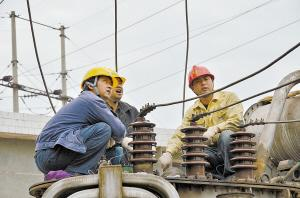boots: (28, 178, 59, 198)
gloves: (152, 152, 172, 176), (202, 125, 220, 139), (121, 136, 133, 152)
hard-hat: (80, 65, 113, 89), (187, 65, 214, 88), (109, 69, 125, 88)
person: (34, 66, 127, 178), (154, 65, 244, 179), (104, 68, 140, 165)
